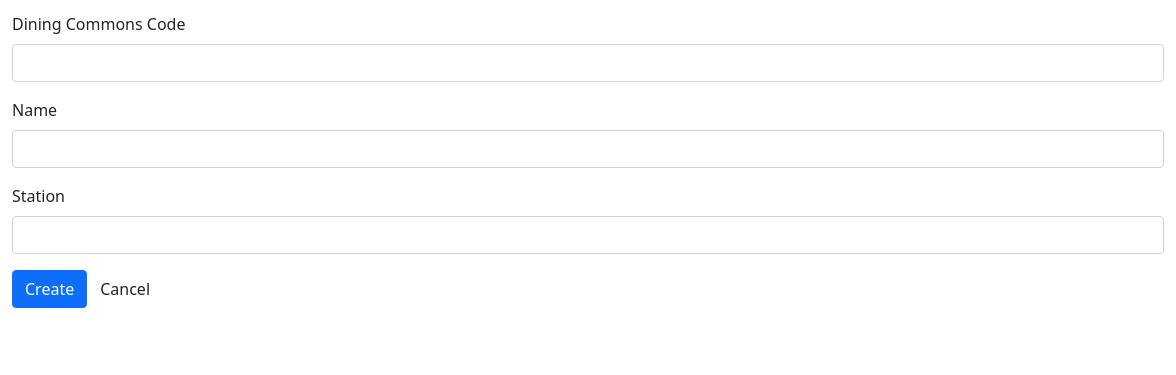
Test case: MenuItemForm tests › Correct Error messsages on bad input
expect the field with test id "MenuItemForm-diningCommonsCode" is shown: met, box x1=12 y1=44 x2=1164 y2=82
Type "bad-input" into the field with test id "MenuItemForm-name" at [588, 149], box x1=12 y1=130 x2=1164 y2=168
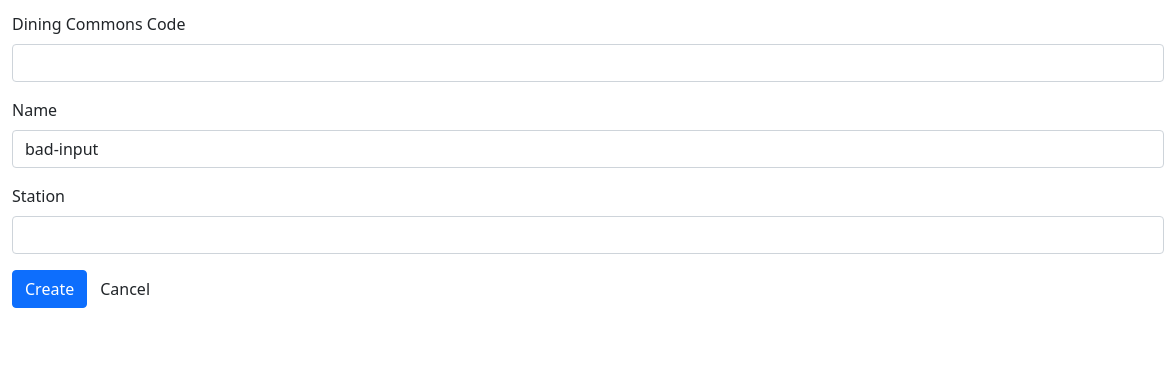
Click the button with test id "MenuItemForm-submit" at [50, 289], box x1=12 y1=270 x2=87 y2=308
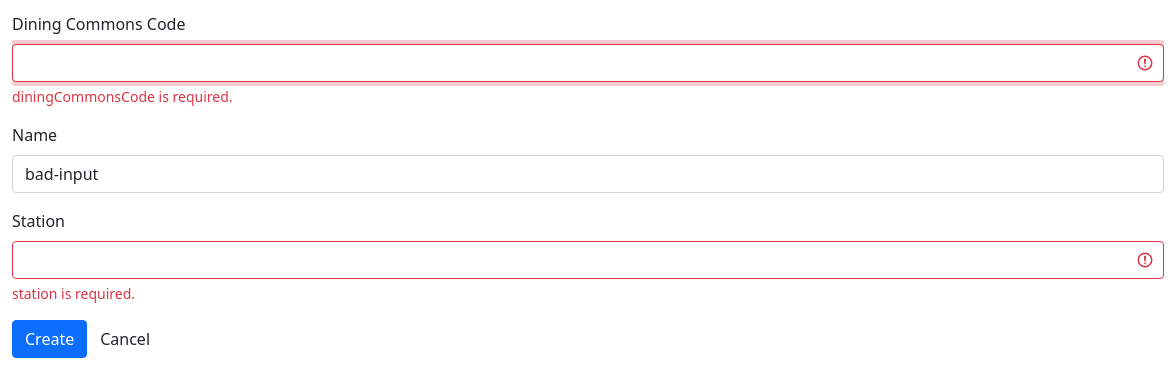
expect the text "diningCommonsCode is required." is shown: met, box x1=12 y1=87 x2=232 y2=106
expect the text "station is required." is shown: met, box x1=12 y1=284 x2=135 y2=303
